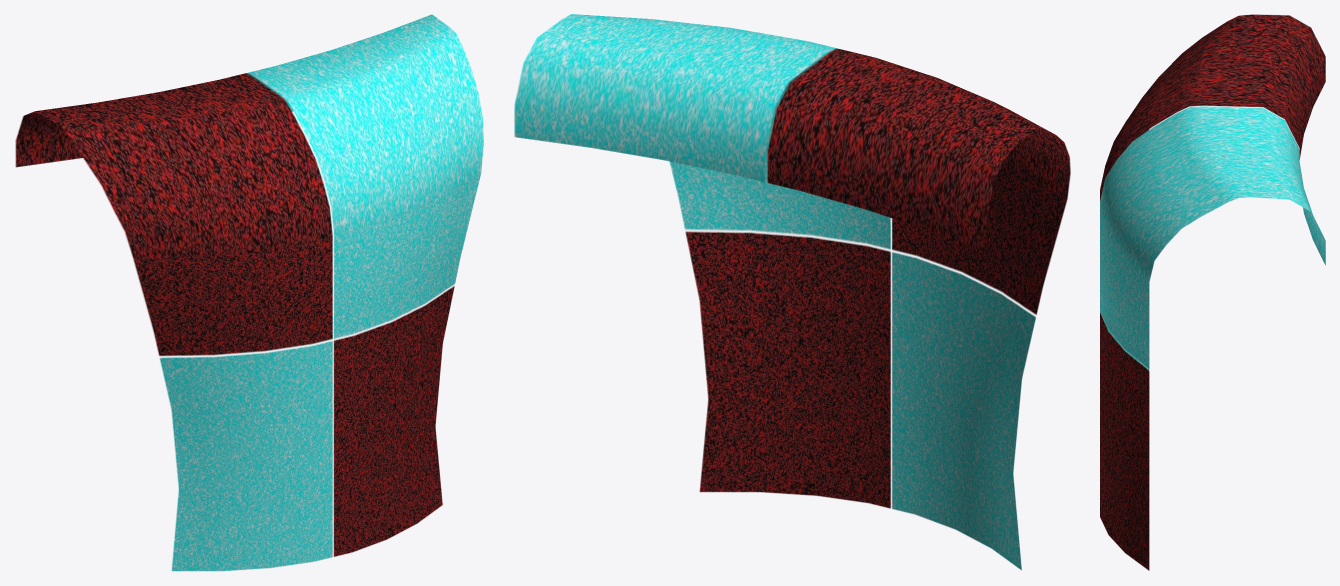
3 renders of one model, left to right at view 1: azimuth 30°, elevation 25°; view 2: azimuth 150°, elevation 25°; view 3: azimuth 270°, elevation 25°, orthographic. The views are drawn at different scales.
Visible parts, largest first — view 1: SM_VFX_Waterfall_LOD0; view 2: SM_VFX_Waterfall_LOD0; view 3: SM_VFX_Waterfall_LOD0.
Part boxes in pixels (x1,y1,x2,y2): SM_VFX_Waterfall_LOD0: (15, 14, 483, 571); SM_VFX_Waterfall_LOD0: (514, 14, 1070, 570); SM_VFX_Waterfall_LOD0: (1100, 14, 1325, 570).
Size of the model in its own units: 1.98 by 2.01 by 1.02.
Materials: 1 (1 with a texture image).
